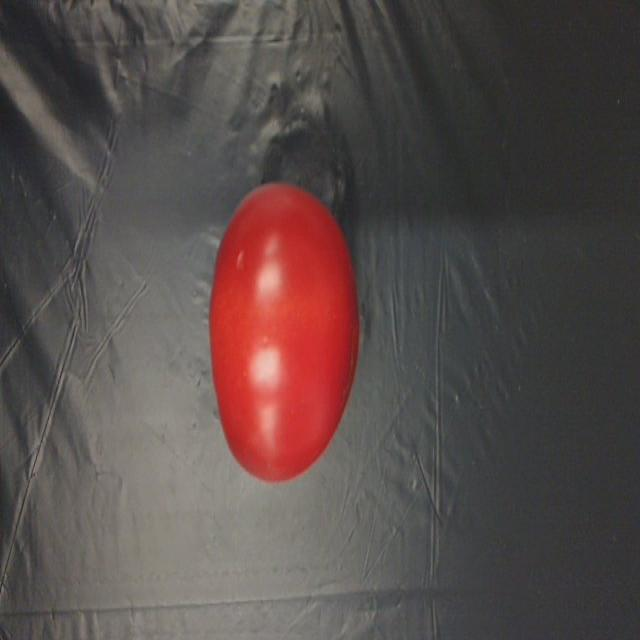kirmizi: (196, 181, 364, 491)
